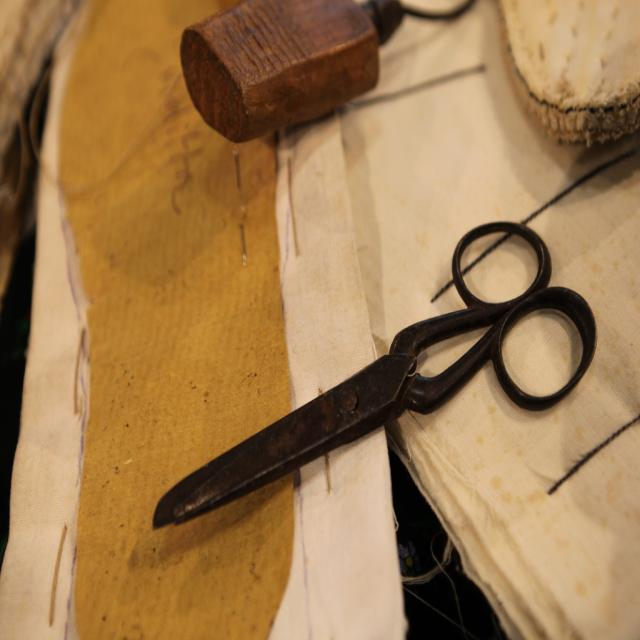scissors: (152, 219, 597, 528)
